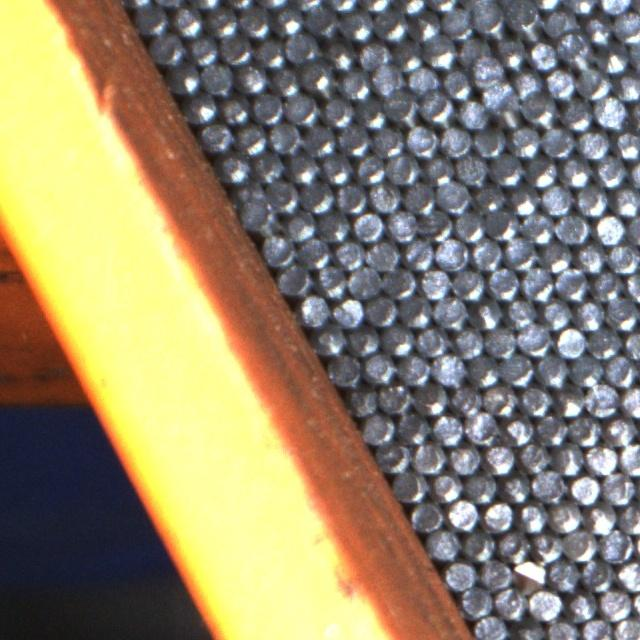tool: (449, 382, 484, 417), (277, 260, 312, 295), (284, 31, 320, 65), (540, 124, 575, 158), (466, 353, 501, 387), (604, 352, 638, 387), (465, 410, 500, 444), (431, 350, 465, 385), (396, 409, 430, 444), (419, 208, 454, 242), (415, 323, 449, 357), (490, 152, 524, 186), (374, 6, 408, 40), (518, 382, 552, 416), (568, 412, 602, 446), (364, 293, 398, 327), (564, 528, 598, 562), (569, 354, 603, 388), (598, 528, 632, 562), (483, 381, 517, 415), (414, 381, 448, 415), (151, 30, 185, 64), (584, 381, 618, 415), (484, 324, 518, 358), (532, 468, 566, 502), (398, 293, 432, 327), (581, 558, 615, 592), (433, 294, 467, 328), (392, 467, 426, 501), (437, 178, 471, 212), (508, 2, 542, 36), (522, 266, 555, 301), (554, 324, 587, 358), (577, 126, 610, 160), (568, 470, 601, 504), (251, 90, 284, 124), (405, 122, 438, 156), (397, 351, 430, 385), (446, 497, 479, 531), (346, 322, 379, 356), (575, 182, 609, 215), (429, 469, 463, 502), (602, 470, 635, 504), (330, 294, 363, 328), (378, 380, 412, 413), (594, 154, 628, 187), (238, 4, 272, 37), (603, 414, 637, 447), (504, 234, 537, 268), (300, 180, 334, 213), (540, 182, 574, 215), (430, 412, 464, 445), (440, 66, 473, 100), (507, 123, 540, 157), (506, 183, 540, 216), (538, 296, 572, 329), (499, 470, 532, 504), (452, 266, 486, 299), (590, 268, 623, 302), (558, 97, 592, 130), (340, 8, 374, 41), (305, 4, 339, 37), (559, 154, 592, 188), (300, 60, 334, 93), (205, 4, 238, 38), (386, 91, 419, 125), (285, 92, 319, 125), (447, 440, 480, 474), (411, 499, 445, 532), (544, 7, 578, 40), (412, 440, 446, 473), (385, 208, 418, 242), (315, 262, 348, 296), (384, 264, 417, 298), (261, 232, 295, 265), (361, 410, 394, 444), (334, 180, 368, 213), (134, 1, 168, 34), (536, 352, 568, 387), (363, 350, 396, 383), (599, 586, 632, 619), (302, 121, 335, 154), (595, 95, 628, 128), (606, 296, 639, 329), (556, 210, 589, 243), (455, 152, 488, 185), (519, 322, 552, 355), (481, 499, 514, 532), (268, 120, 301, 153), (336, 122, 369, 155), (354, 95, 387, 128), (515, 499, 548, 532), (219, 32, 252, 65), (319, 150, 352, 183), (298, 234, 331, 267), (578, 67, 611, 100), (369, 179, 402, 212), (377, 438, 410, 471), (286, 150, 319, 183), (421, 91, 454, 124), (495, 586, 528, 619), (522, 210, 555, 243), (443, 558, 476, 591), (525, 155, 558, 188), (328, 352, 361, 385), (353, 151, 386, 184), (418, 266, 451, 299), (473, 181, 506, 214), (387, 151, 420, 184), (462, 528, 495, 561), (552, 385, 585, 418), (531, 528, 564, 561), (348, 263, 381, 296), (233, 121, 266, 154), (482, 441, 515, 474), (435, 237, 468, 270), (352, 208, 384, 242), (219, 91, 251, 125), (502, 351, 534, 385), (548, 557, 580, 591), (550, 498, 582, 532), (428, 526, 460, 560), (380, 322, 414, 354), (478, 558, 512, 590), (402, 181, 436, 213), (250, 148, 284, 180), (312, 323, 346, 355), (486, 208, 520, 240), (461, 584, 493, 618), (528, 587, 560, 620), (452, 325, 484, 358), (473, 125, 506, 157), (371, 124, 404, 156), (456, 96, 489, 128), (171, 4, 204, 36), (268, 179, 300, 212), (504, 295, 536, 328), (464, 470, 497, 502), (339, 67, 371, 100), (402, 237, 434, 270), (199, 120, 232, 152), (544, 66, 577, 98), (594, 212, 626, 245), (442, 7, 475, 39), (298, 293, 330, 326), (496, 529, 528, 562), (556, 268, 589, 300), (201, 60, 233, 93), (524, 92, 556, 125), (367, 238, 400, 270), (564, 588, 597, 620), (518, 439, 550, 472), (474, 3, 506, 36), (471, 237, 503, 270), (318, 209, 350, 242), (502, 414, 535, 446), (472, 298, 505, 330), (333, 238, 366, 270), (551, 442, 584, 474), (540, 241, 573, 273), (496, 34, 528, 67), (585, 502, 618, 534), (588, 326, 620, 359), (476, 75, 509, 107), (582, 12, 614, 45), (584, 441, 617, 473), (269, 64, 301, 97), (184, 91, 217, 123), (169, 59, 201, 92), (347, 383, 379, 416), (440, 124, 472, 156), (322, 94, 354, 126), (574, 298, 606, 330), (422, 153, 454, 185), (608, 242, 640, 274), (454, 210, 486, 242), (186, 33, 218, 65), (272, 4, 304, 36), (535, 412, 567, 444), (424, 34, 456, 66), (218, 150, 250, 182), (598, 42, 630, 74), (487, 266, 519, 298), (574, 240, 606, 272), (514, 558, 546, 590), (282, 210, 314, 242), (455, 34, 487, 66), (407, 63, 439, 95), (373, 64, 405, 96), (392, 39, 424, 71), (325, 38, 357, 70), (238, 196, 270, 228), (236, 60, 267, 93), (356, 39, 389, 70), (564, 40, 597, 71), (252, 36, 284, 67), (492, 98, 524, 129), (410, 10, 442, 41), (610, 184, 640, 217), (528, 38, 559, 69), (510, 68, 541, 99), (470, 54, 502, 84), (611, 128, 640, 160), (237, 177, 268, 206), (476, 612, 508, 640), (613, 68, 640, 100), (614, 10, 640, 43), (579, 615, 613, 640), (544, 616, 578, 640), (512, 615, 544, 640), (617, 558, 640, 592), (618, 502, 640, 535), (620, 441, 640, 475), (613, 615, 640, 640), (621, 384, 640, 418), (623, 326, 640, 359), (625, 269, 640, 302), (599, 0, 631, 14), (394, 0, 426, 14), (564, 0, 596, 13)
